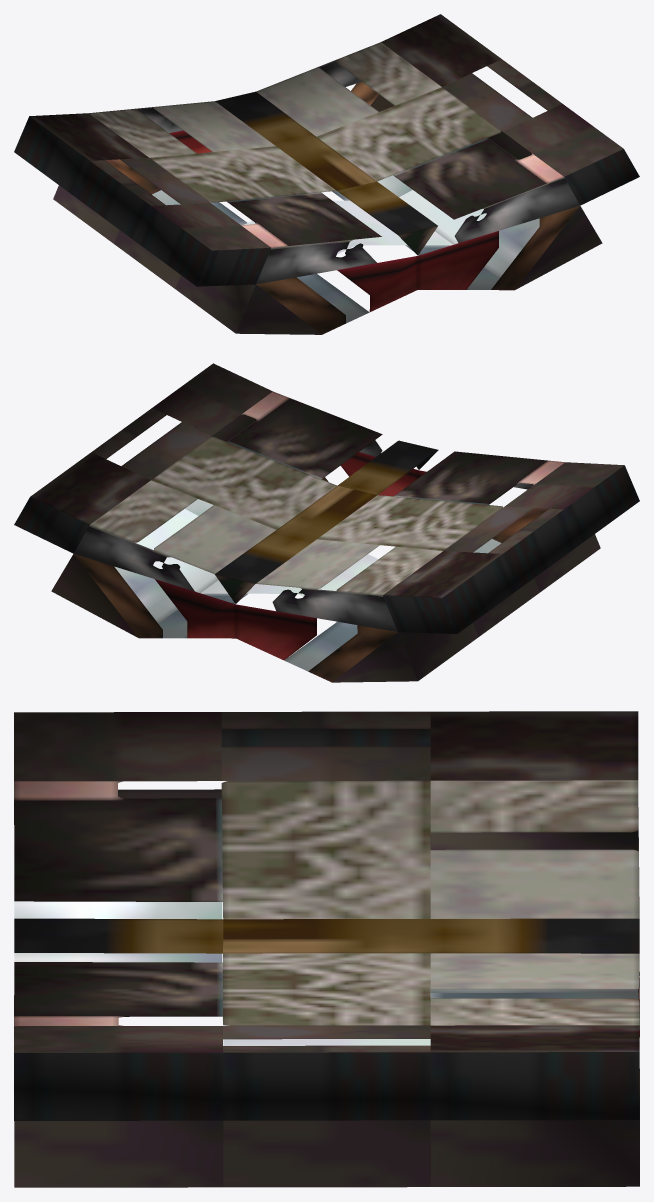
3 renders of one model, top to bottom at view 1: azimuth 30°, elevation 25°; view 2: azimuth 150°, elevation 25°; view 3: azimuth 270°, elevation 25°, orthographic. The views are drawn at different scales.
Parts seen in each view (by area): view 1: T1L4M008_2; view 2: T1L4M008_2; view 3: T1L4M008_2.
Part boxes in pixels (bbox=[...]): T1L4M008_2: bbox=[14, 14, 639, 334]; T1L4M008_2: bbox=[14, 363, 639, 682]; T1L4M008_2: bbox=[14, 711, 639, 1187].
Bounding box in the file's own units: 0.559 × 0.1392 × 0.4006.
